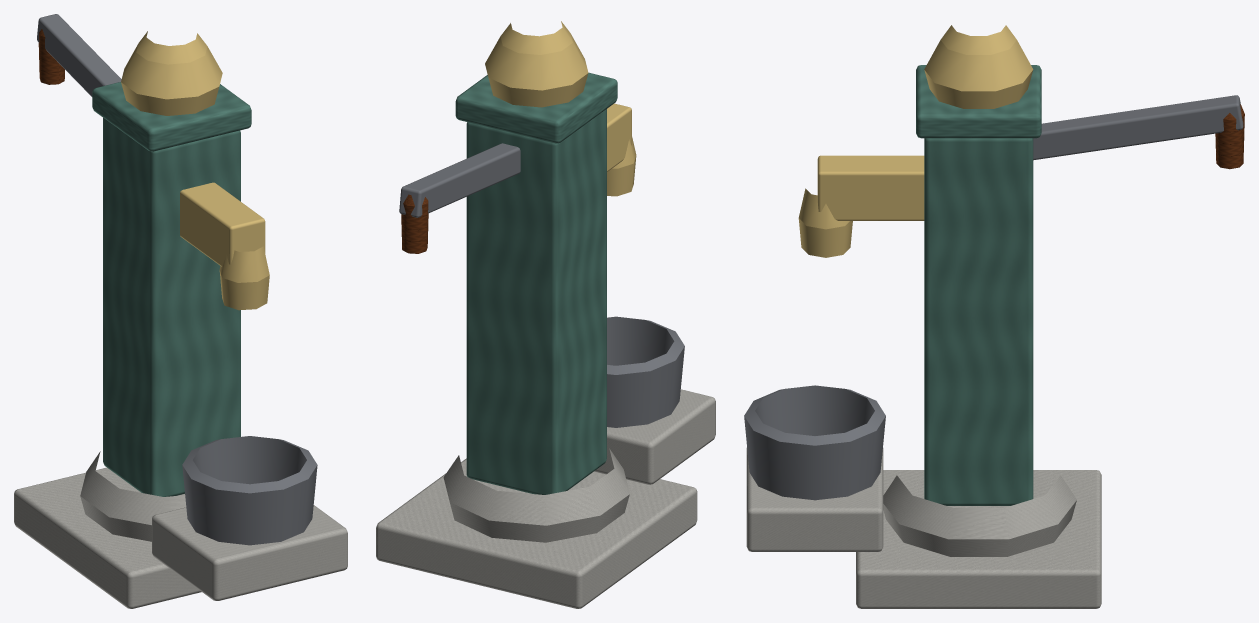
File: street-water-pump.glb
3 views of the same model, side by side, from view 1: azimuth 30°, elevation 25°; view 2: azimuth 150°, elevation 25°; view 3: azimuth 270°, elevation 25° (orthographic). The views are drawn at different scales.
Visible parts, largest first — view 1: street-water-pump, pump-handle/iron, pump-handle/oak; view 2: street-water-pump, pump-handle/iron, pump-handle/oak; view 3: street-water-pump, pump-handle/iron, pump-handle/oak.
Boxes of the visible parts, x1=… form: street-water-pump: x1=14, y1=31, x2=347, y2=608; pump-handle/iron: x1=37, y1=14, x2=121, y2=96; pump-handle/oak: x1=38, y1=29, x2=64, y2=84; street-water-pump: x1=376, y1=21, x2=715, y2=608; pump-handle/iron: x1=399, y1=143, x2=520, y2=217; pump-handle/oak: x1=401, y1=194, x2=428, y2=253; street-water-pump: x1=744, y1=25, x2=1101, y2=608; pump-handle/iron: x1=1033, y1=95, x2=1243, y2=160; pump-handle/oak: x1=1215, y1=104, x2=1244, y2=169.
Size of the model in its own units: 0.9 by 2.16 by 1.83.
5 materials, 3 textured.
